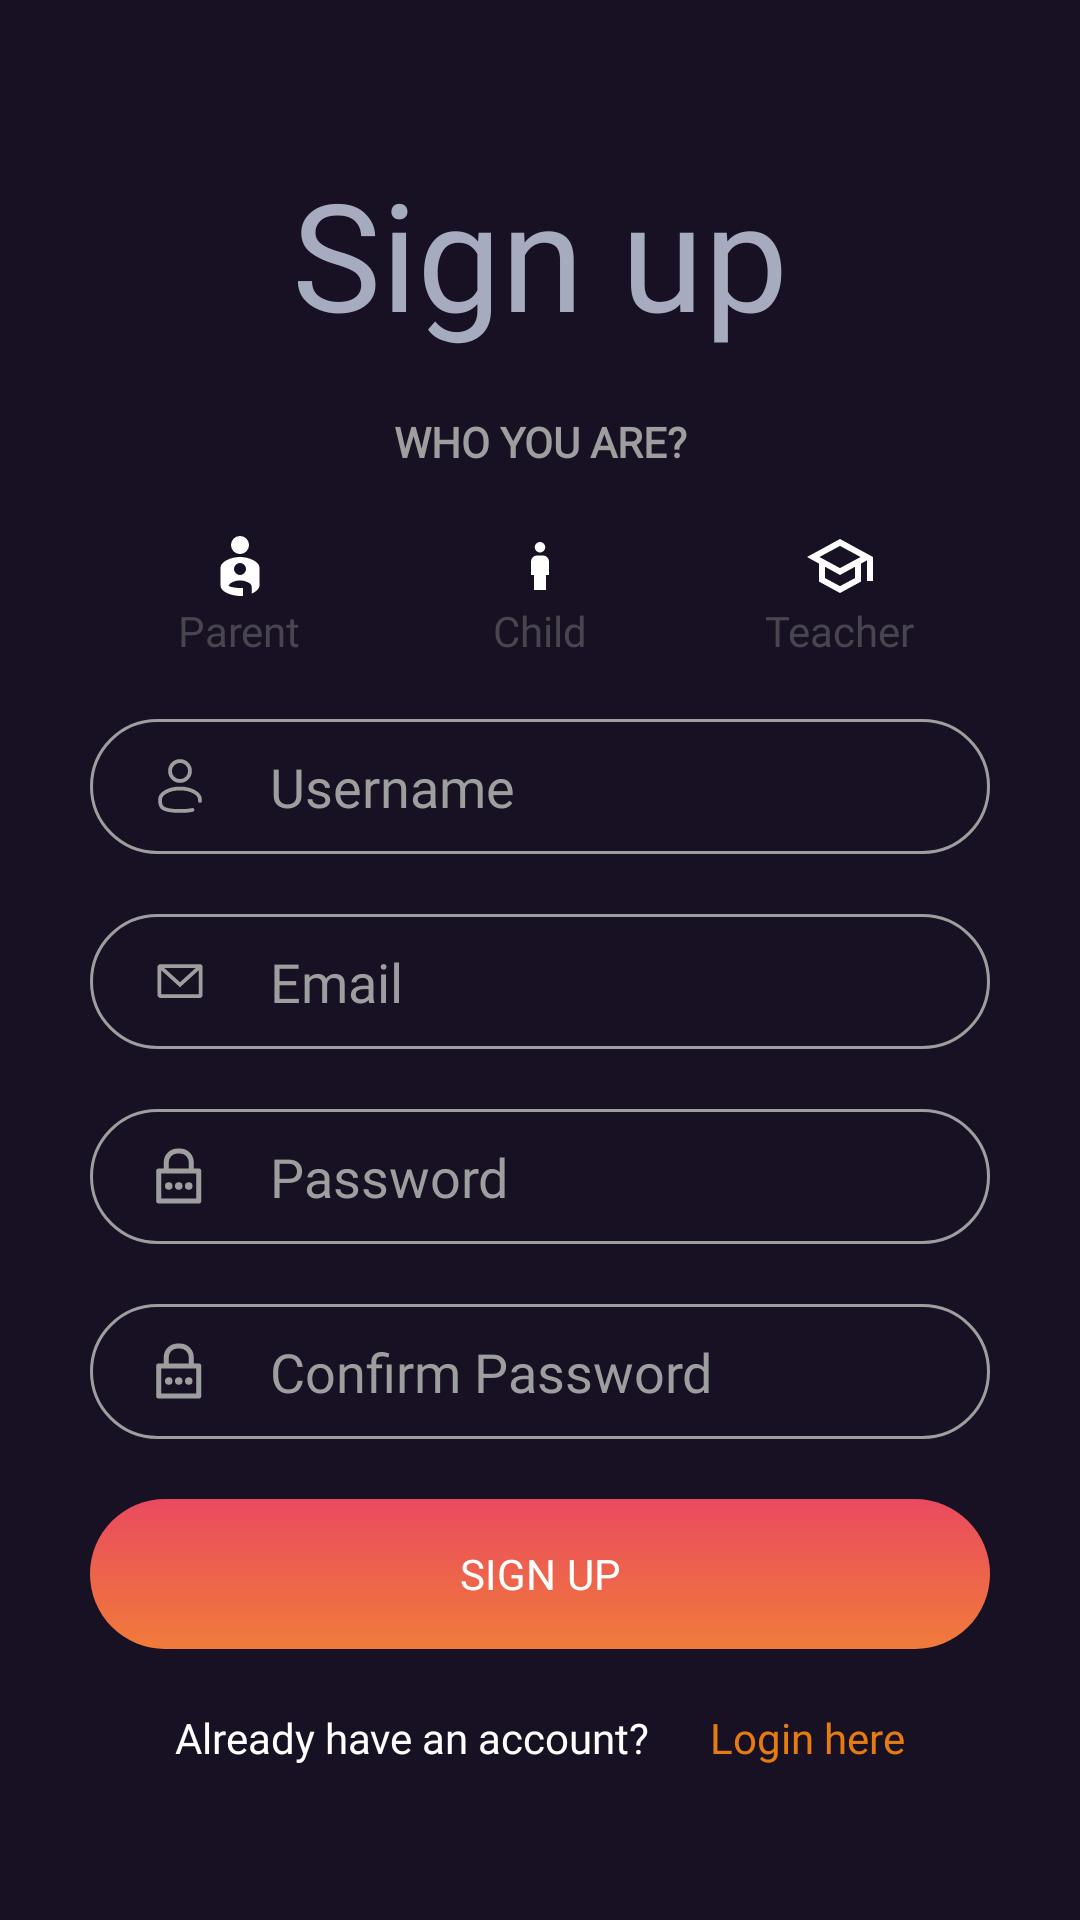

Where icons sit on this 1080 x 1920 app screen, as (x1, y1, x2, y2):
father holding child: (220, 536, 260, 596)
school hat: (807, 539, 873, 593)
